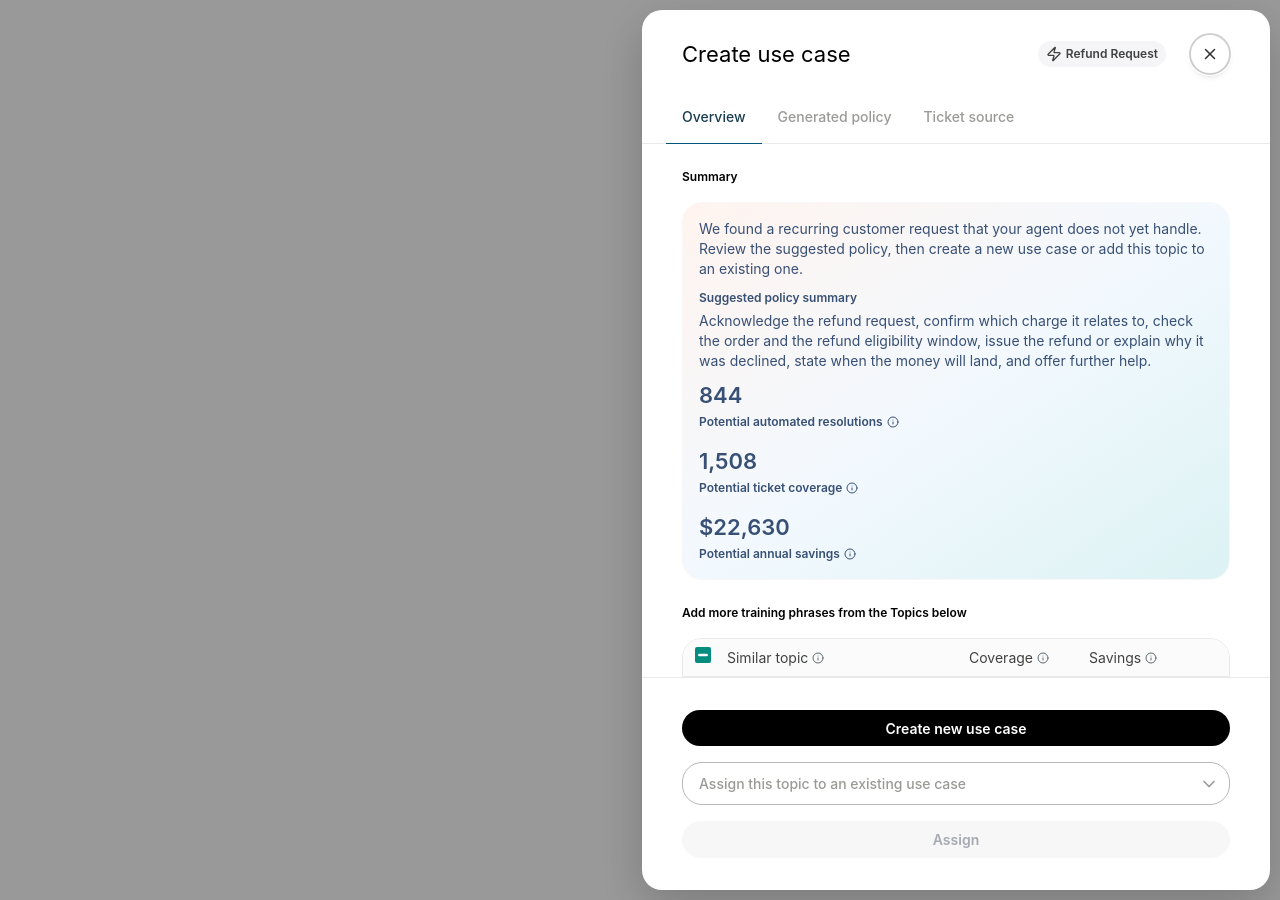
Test case: CreateUseCasePanel › switches between Generated policy and Ticket source
The image size is (1280, 900).
Click the tab "Generated policy": (834, 116) top-left (762, 90), bottom-right (907, 143)
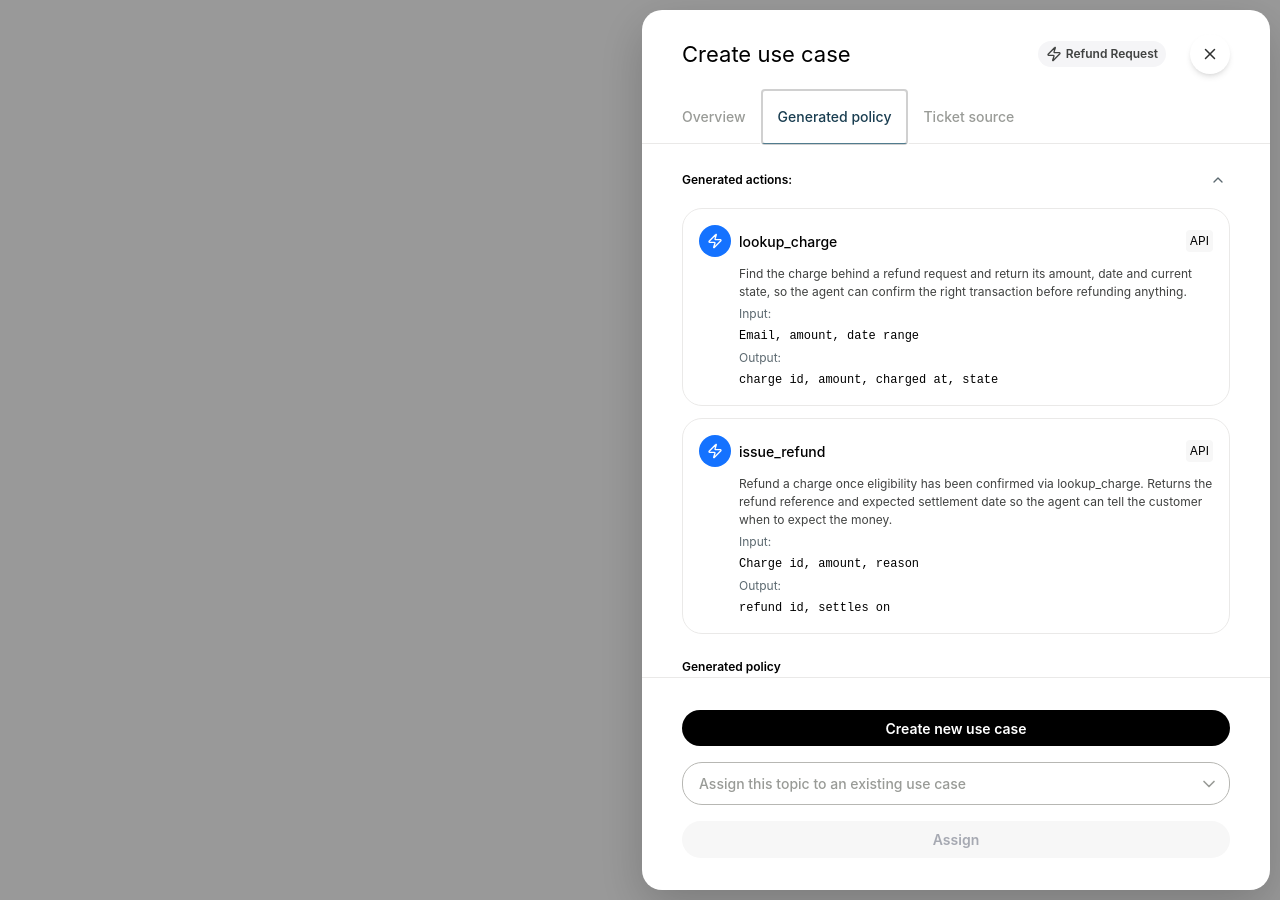
Expected: the text "Generated actions:" is shown, top-left (682, 171), bottom-right (792, 189)
Click the tab "Ticket source": (969, 116) top-left (908, 90), bottom-right (1030, 143)
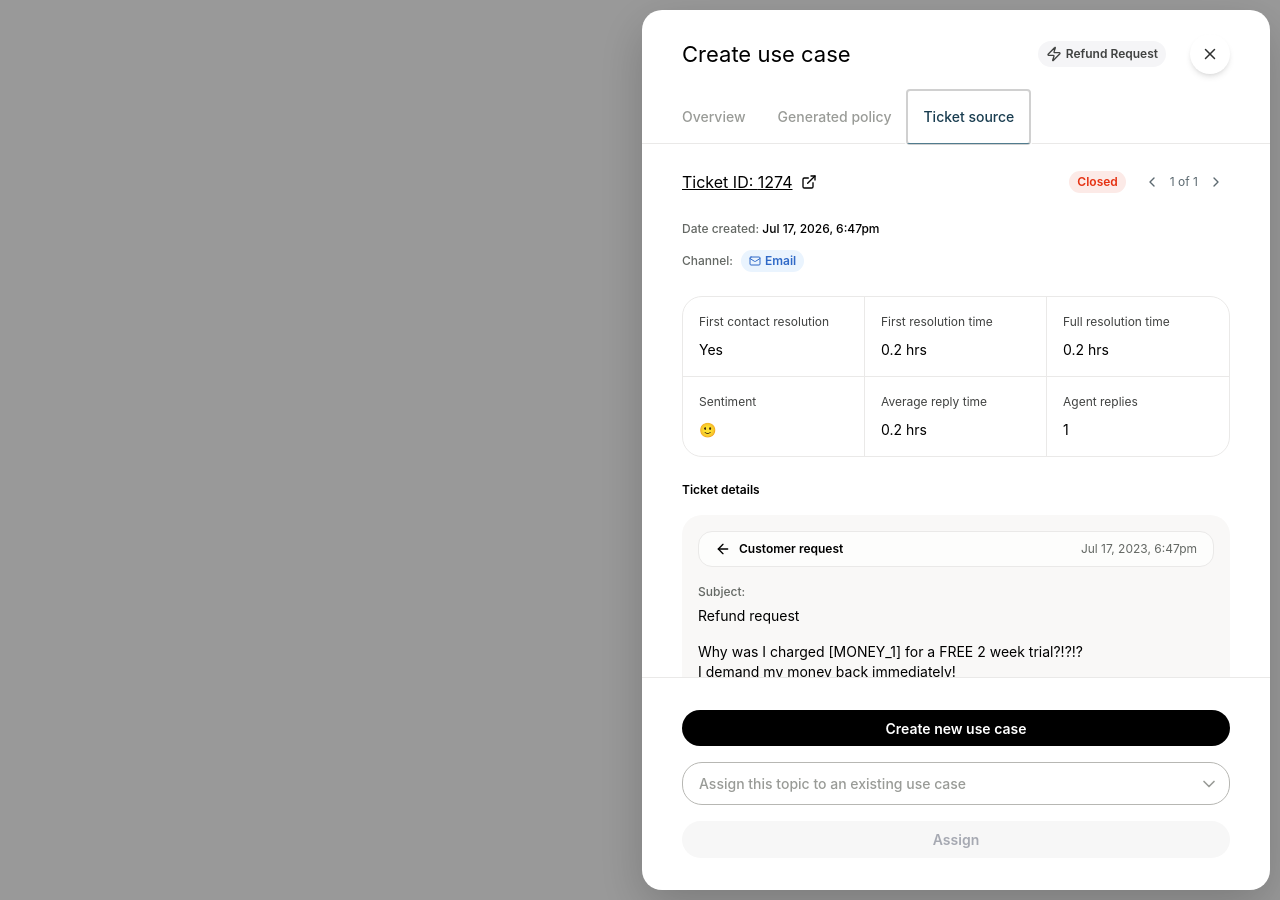
Expected: the text "Ticket ID: 1274" is shown, top-left (682, 170), bottom-right (792, 194)
